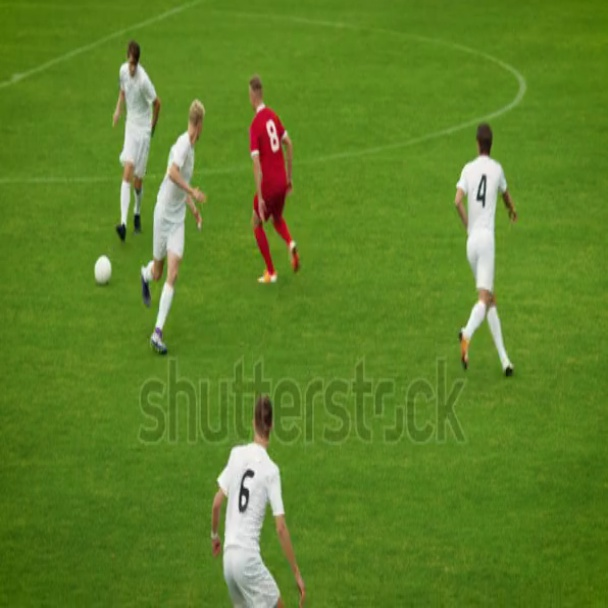ball: (96, 254, 113, 283)
